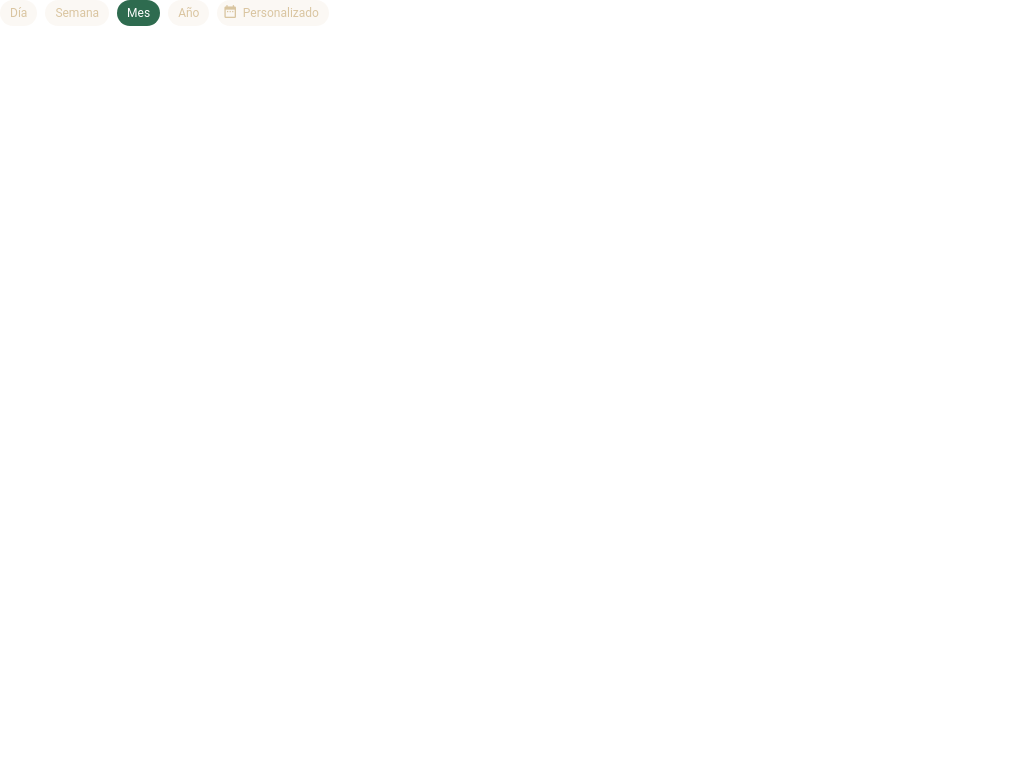
Test: PeriodFilter › opens the custom dialog with two date fields
Click the element with test id "preset-custom". click: (273, 13)
box: top-left (217, 0), bottom-right (329, 26)
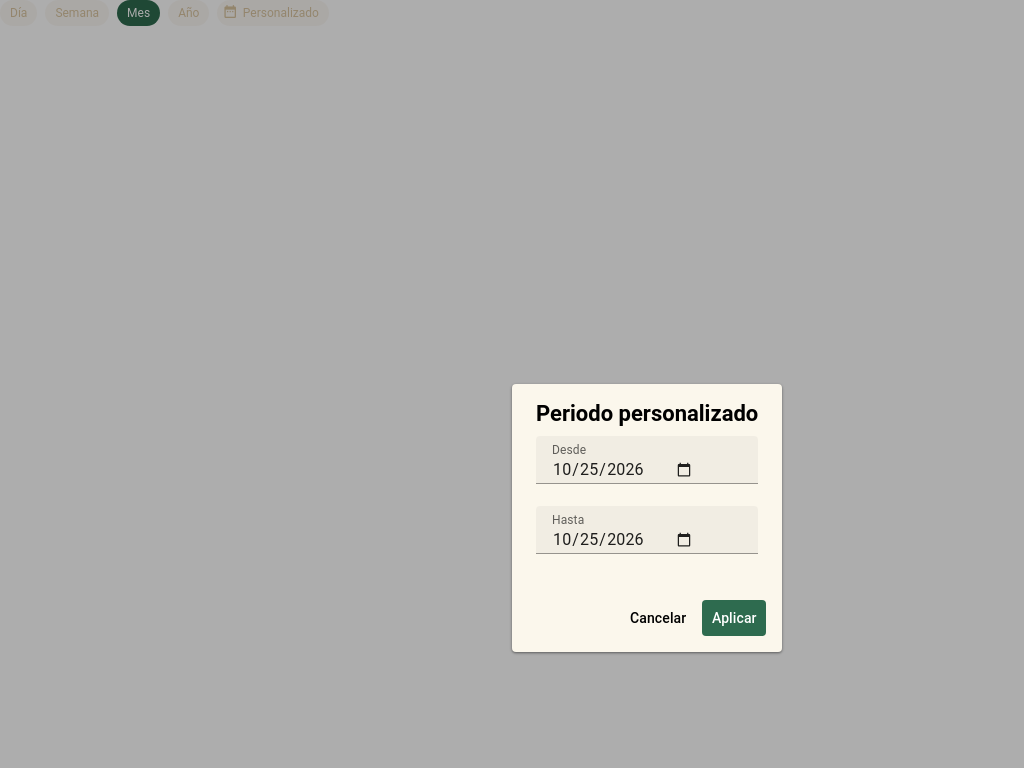
Expected: the element with test id "custom-from" is shown, top-left (536, 436), bottom-right (758, 506)
Expected: the element with test id "custom-to" is shown, top-left (536, 506), bottom-right (758, 576)
